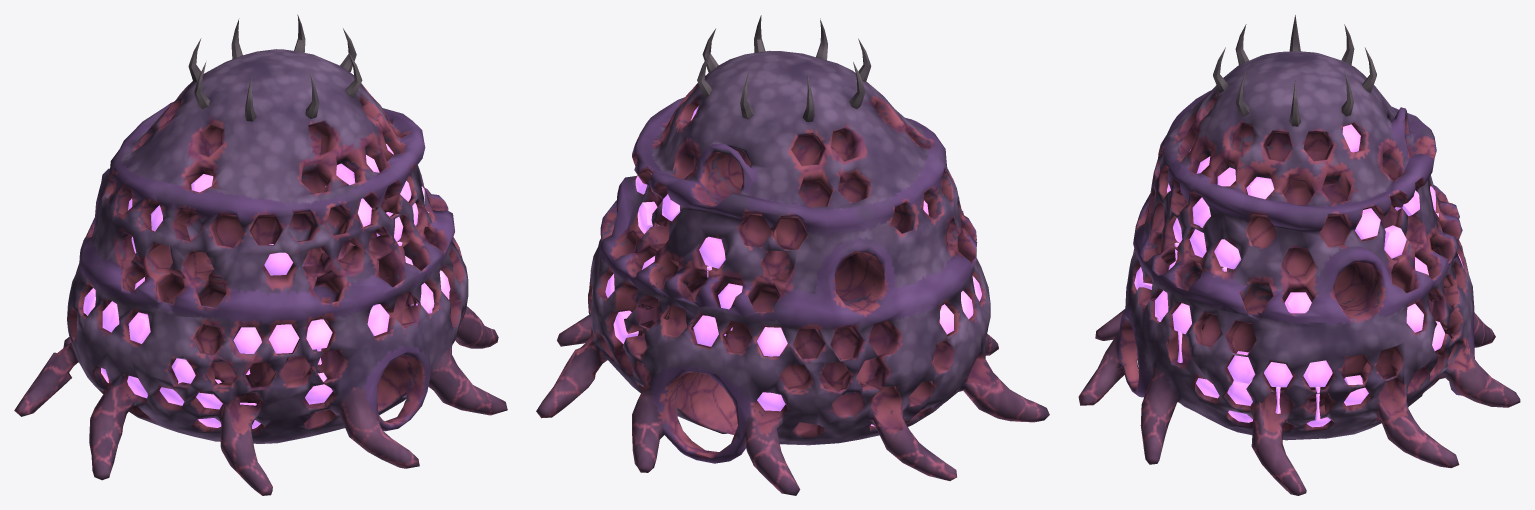
File: colmena_comunal.fbx
3 renders of one model, left to right at view 1: azimuth 30°, elevation 25°; view 2: azimuth 150°, elevation 25°; view 3: azimuth 270°, elevation 25°, orthographic. The views are drawn at different scales.
Visible parts, largest first — view 1: colmena, resina_neon; view 2: colmena, resina_neon; view 3: colmena, resina_neon.
Boxes of the visible parts, x1,y1,x2,y2 form: colmena: [14, 14, 507, 495]; resina_neon: [83, 144, 450, 428]; colmena: [536, 15, 1049, 495]; resina_neon: [605, 106, 981, 426]; colmena: [1078, 15, 1520, 495]; resina_neon: [1134, 124, 1463, 427].
Bounding box in the file's own units: 16.04 × 12 × 14.02.
Materials: 1 (1 with a texture image).
